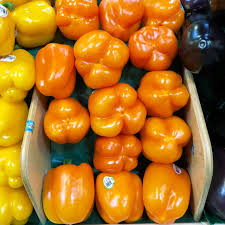bell pepper: (71, 30, 132, 89), (46, 162, 100, 225), (140, 159, 191, 225), (136, 106, 196, 159), (37, 42, 82, 112), (92, 166, 149, 219), (89, 86, 149, 136), (136, 69, 193, 116), (92, 129, 147, 177), (125, 21, 176, 67), (41, 97, 90, 142), (10, 3, 55, 48), (103, 1, 147, 45), (53, 1, 103, 37), (5, 46, 33, 108), (145, 2, 184, 37)
